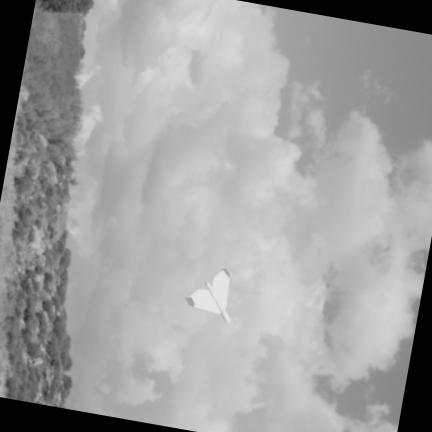Shahed: (186, 269, 229, 322)
